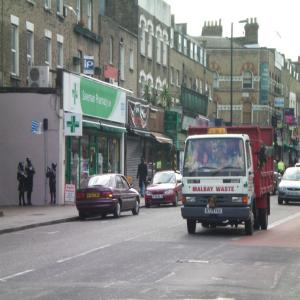Vehicle-registration-plate: (206, 209, 223, 214), (87, 193, 100, 198), (153, 195, 163, 199)
